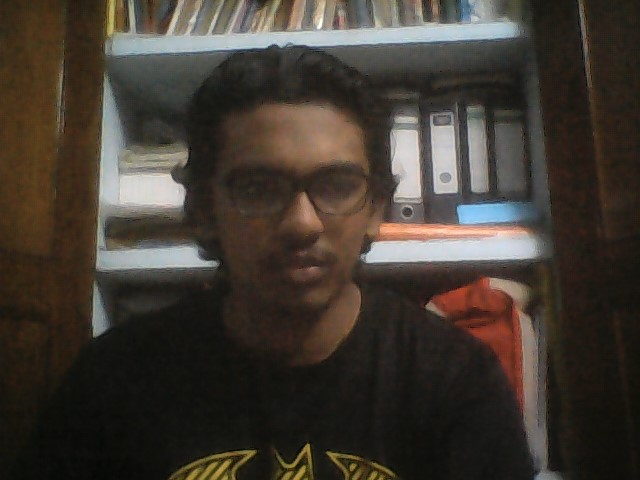person: (93, 41, 491, 480)
